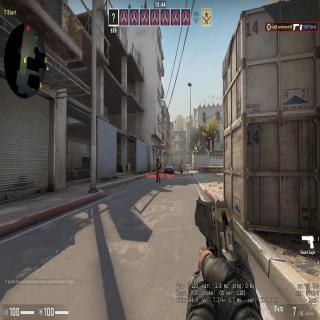CT-Body: (154, 156, 162, 180)
CT-Head: (156, 157, 159, 161)
